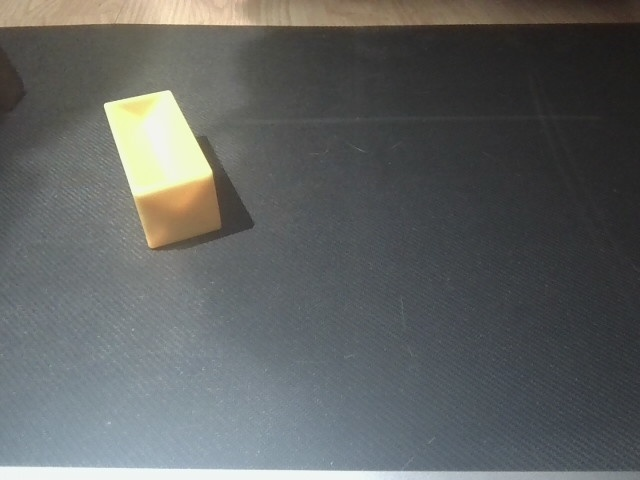YellowSample: (100, 86, 225, 251)
